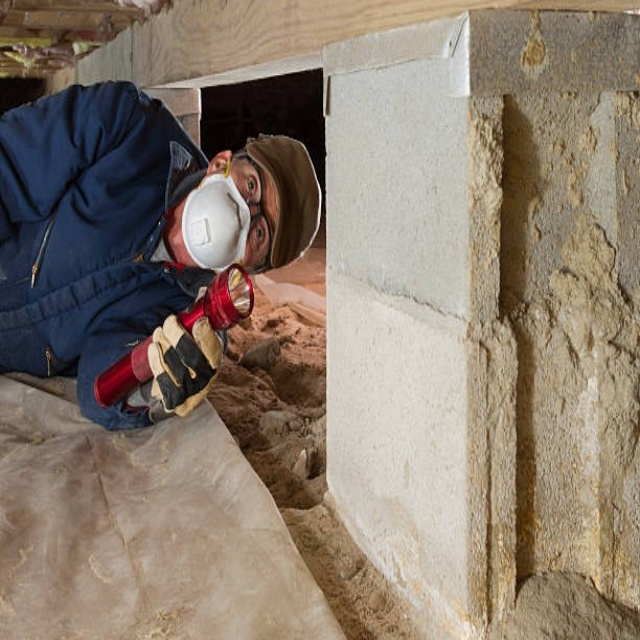Gafas: (237, 154, 271, 271)
Guantes: (148, 314, 221, 414)
Mascara: (181, 166, 252, 271)
